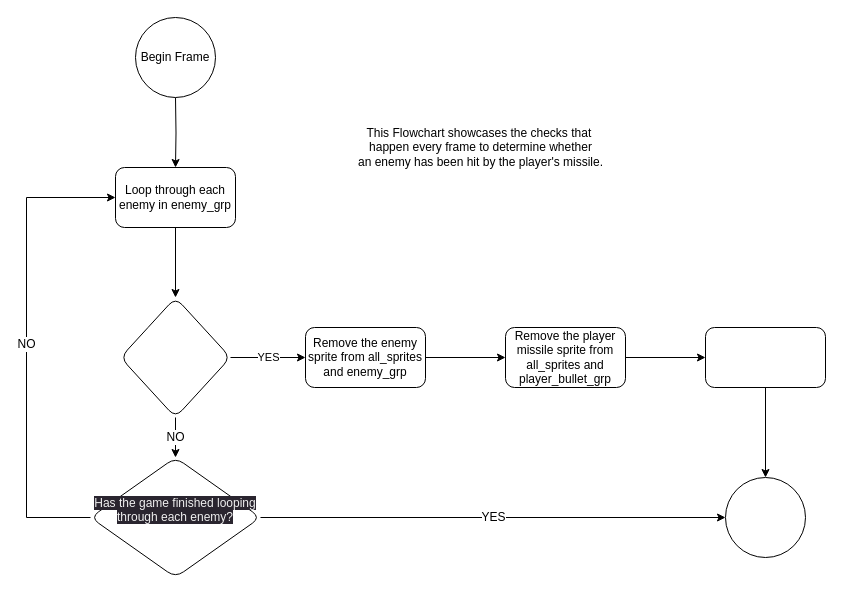
This 843x595 diagram has some shape labels left out. The shapes that lost their labels are listed below. From the top down, each one's centre as x and y in pixels, then its label:
At point 175,357: "Has this sprite collided with any player missile?".
At point 765,357: "Increase player.score by 100".
At point 765,517: "Continue Frame".
